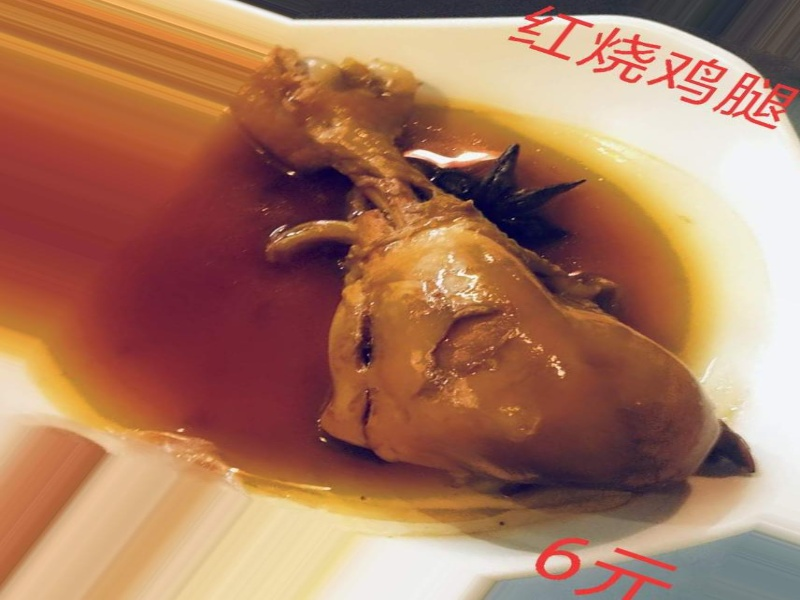chicken: (181, 50, 779, 522)
